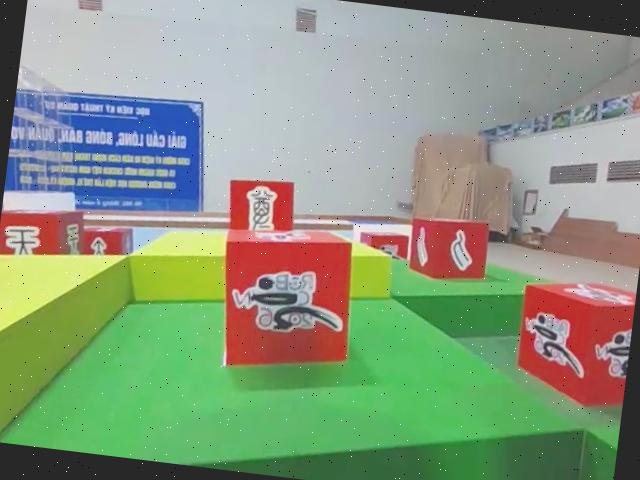R1: (211, 218, 365, 379), (510, 274, 637, 413)
R2 Fake: (222, 174, 300, 243)
R2 Real: (405, 212, 493, 286), (0, 200, 85, 269), (75, 218, 138, 270)
